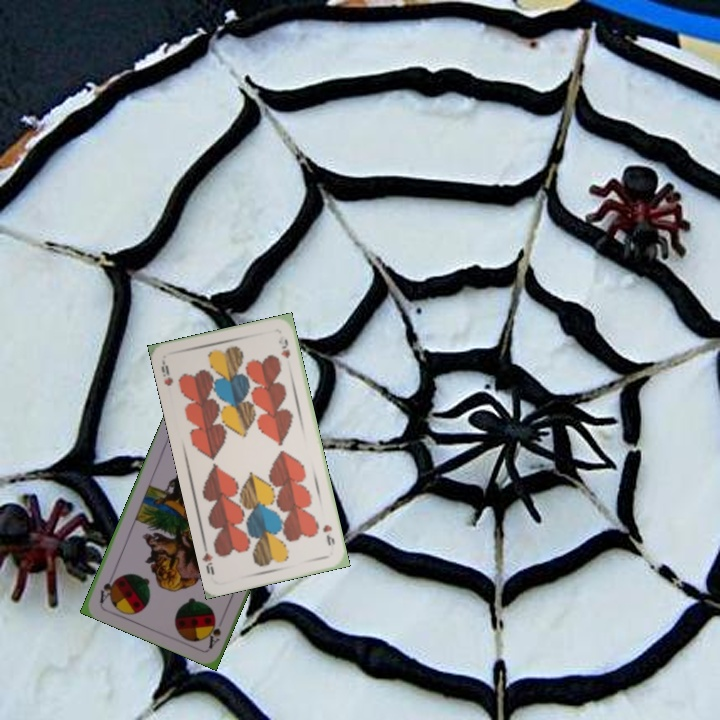H9: (157, 357, 176, 388), (319, 521, 337, 549)
SA: (204, 615, 224, 651)
